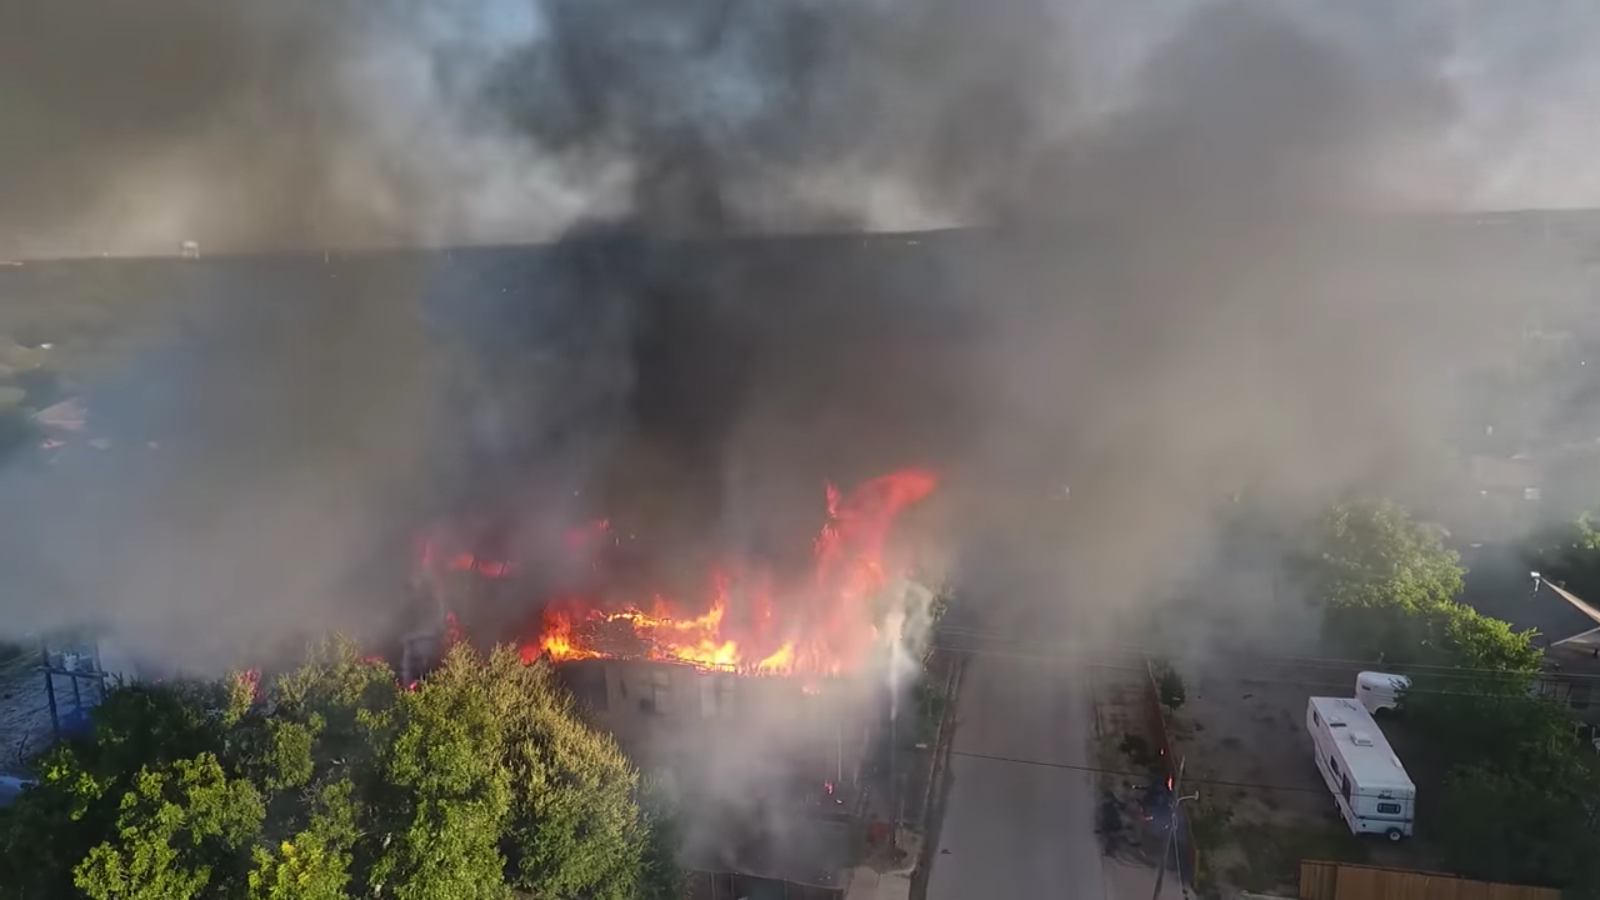fire: (518, 431, 919, 703)
